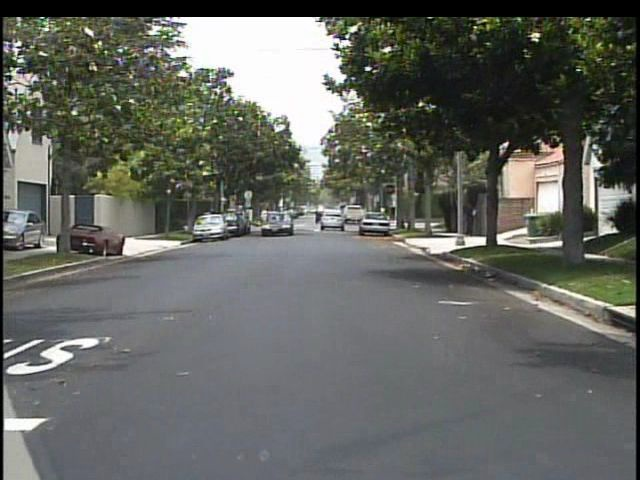person: (464, 195, 479, 238), (201, 206, 216, 233)
